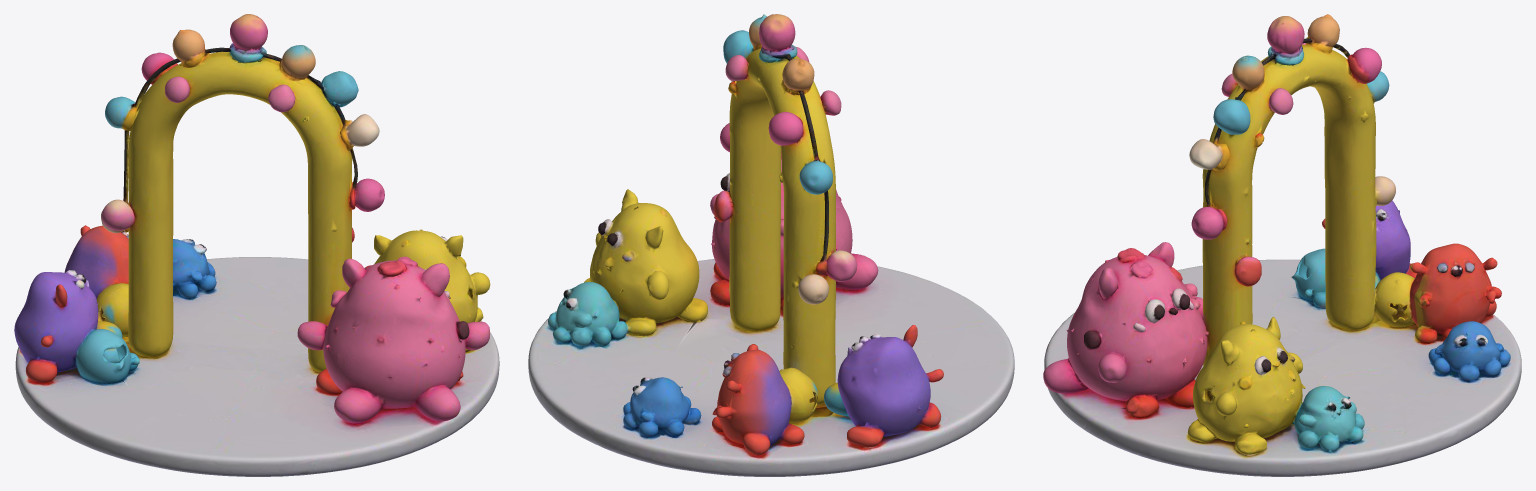
Rendered from env_nest_arch_03.glb.
The picture shows the model from 3 angles, left to right: view 1: azimuth 30°, elevation 25°; view 2: azimuth 150°, elevation 25°; view 3: azimuth 270°, elevation 25°; orthographic projection. The views are drawn at different scales.
Parts seen in each view (by area): view 1: tripo_node_694ecef2-c806-4f86-8253-e56add59574d; view 2: tripo_node_694ecef2-c806-4f86-8253-e56add59574d; view 3: tripo_node_694ecef2-c806-4f86-8253-e56add59574d.
Part boxes in pixels (x1,y1,x2,y2): tripo_node_694ecef2-c806-4f86-8253-e56add59574d: [14, 14, 499, 476]; tripo_node_694ecef2-c806-4f86-8253-e56add59574d: [528, 14, 1014, 476]; tripo_node_694ecef2-c806-4f86-8253-e56add59574d: [1043, 14, 1521, 476].
Bounding box in the file's own units: 3.87 × 3.2 × 3.88.
1 material, 1 textured.
